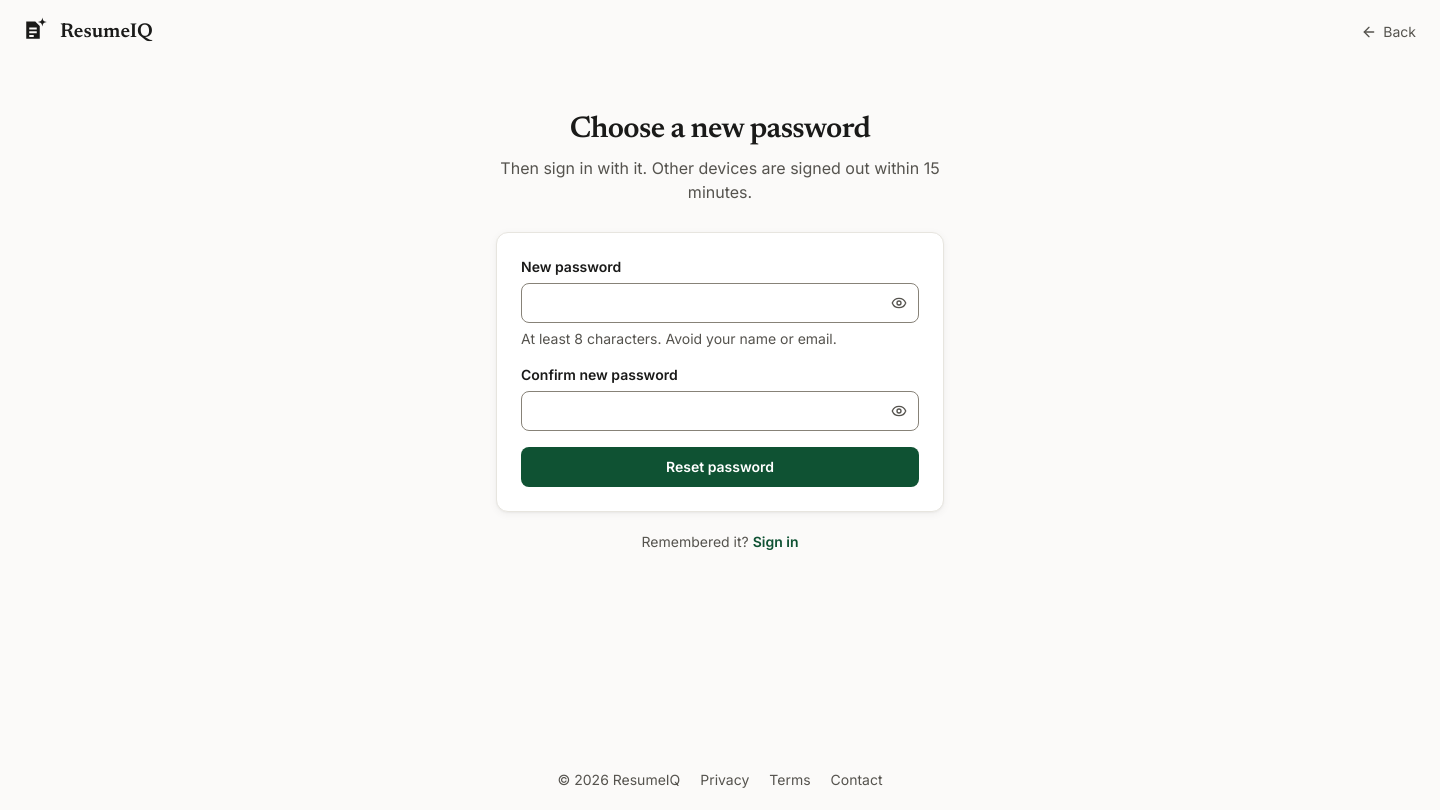
it: ResetPasswordPage › doesn't treat a throttled request as a bad link
In the password field labelled "New password": (720, 303) [521,283,919,323], type "brand-New-pass-42"
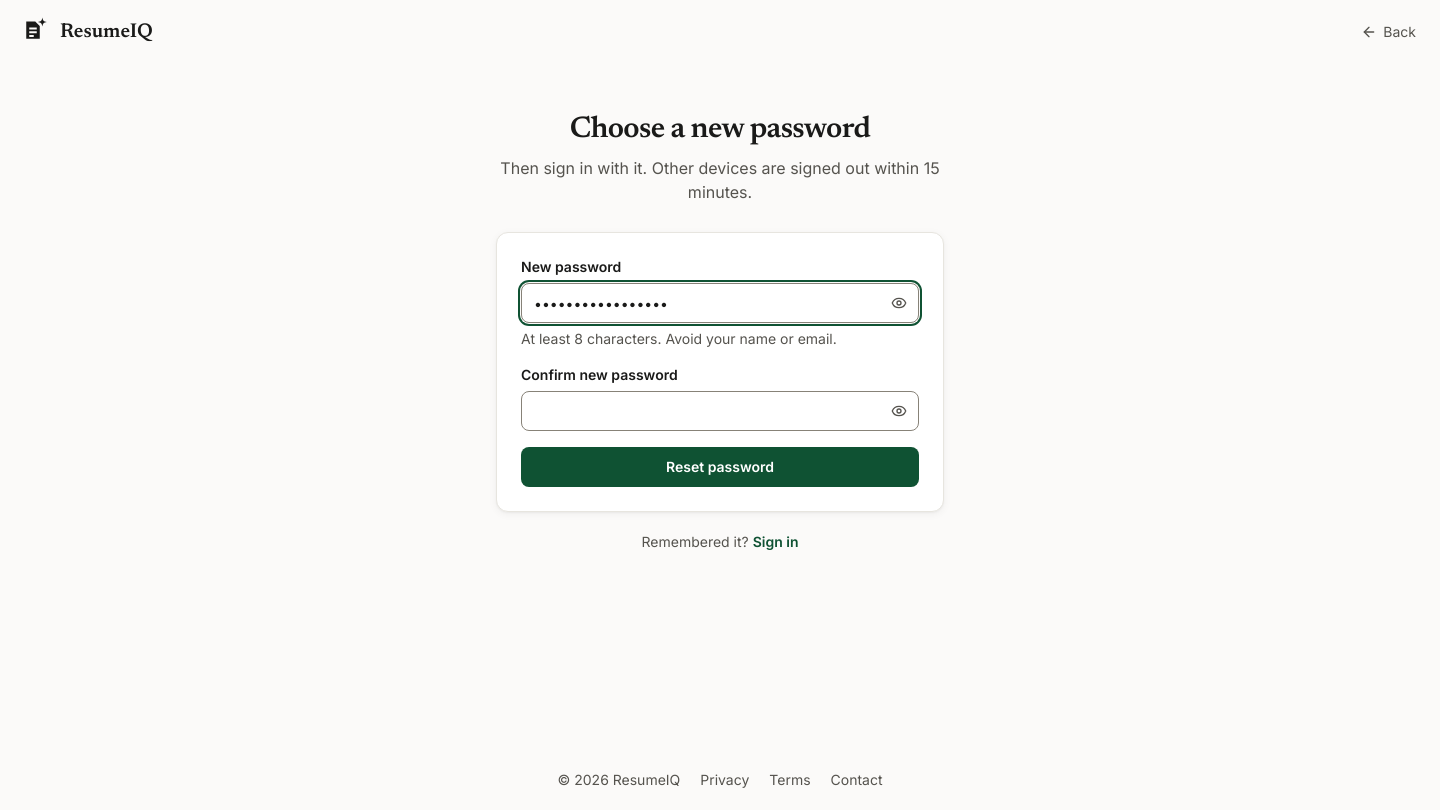
In the password field labelled "Confirm new password": (720, 411) [521,391,919,431], type "brand-New-pass-42"
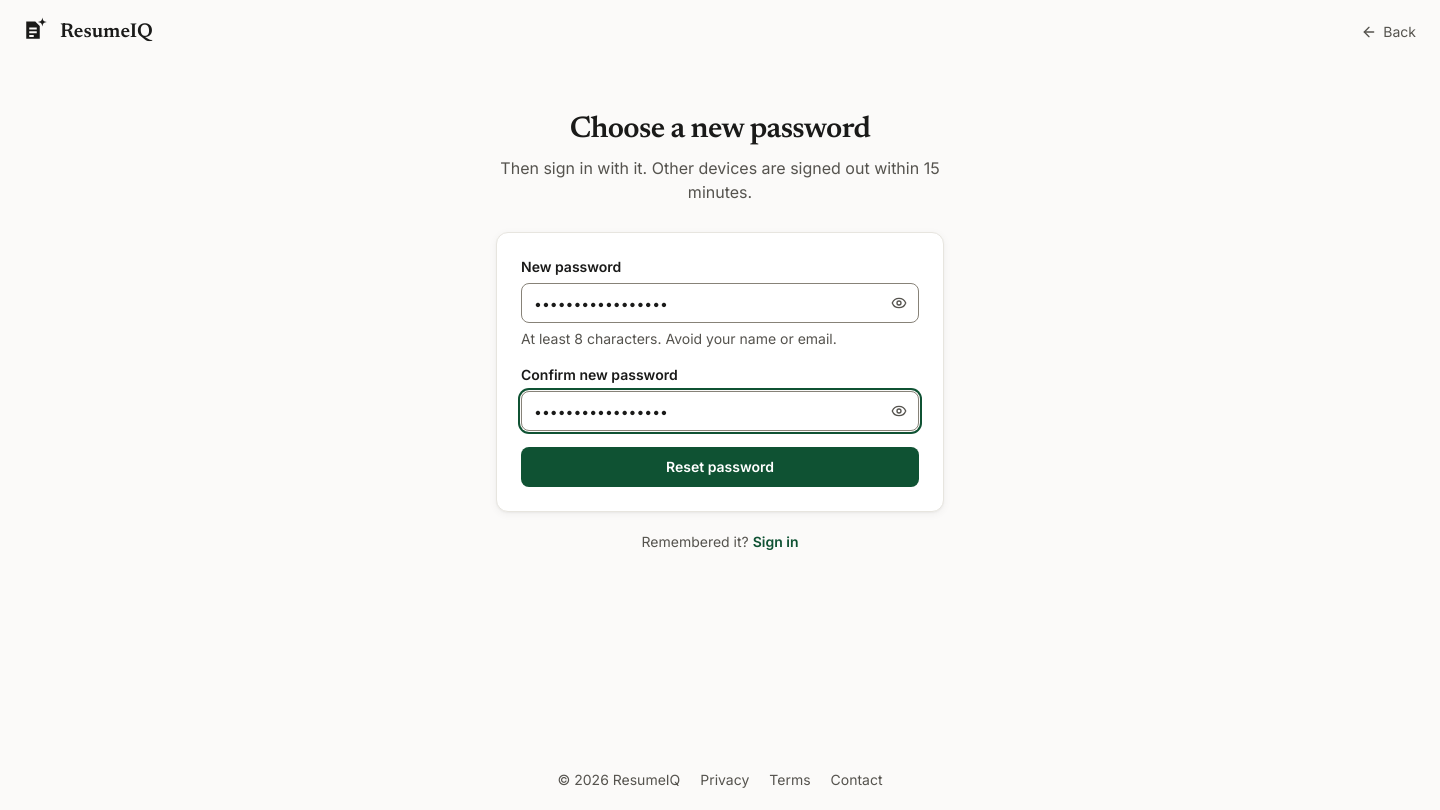
Click the button "Reset password": click(720, 467) [521,447,919,487]
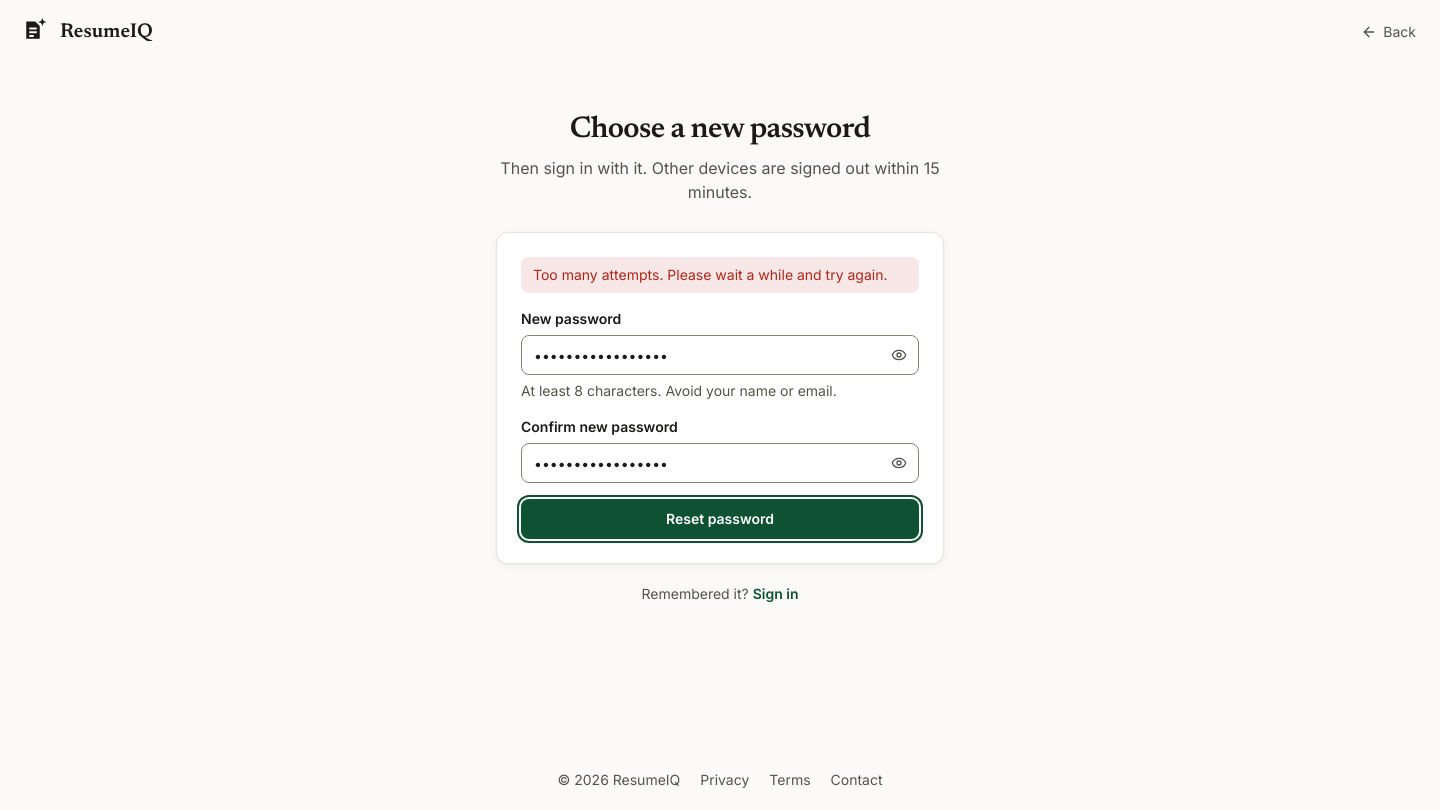
Now the message shows "Too many attempts", box [533,266,888,283]
